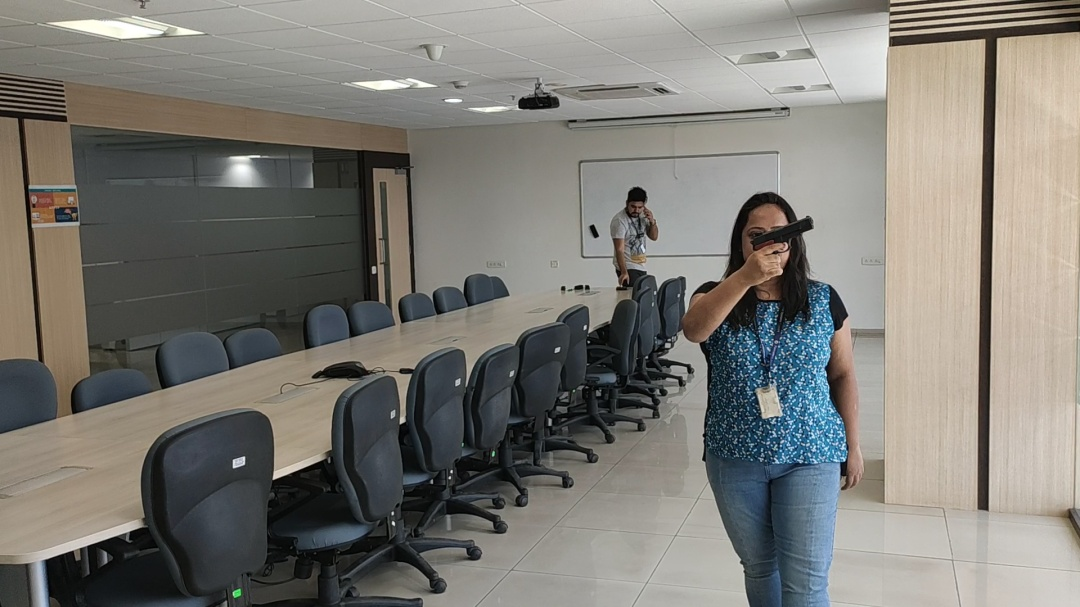gun: (750, 216, 816, 252)
